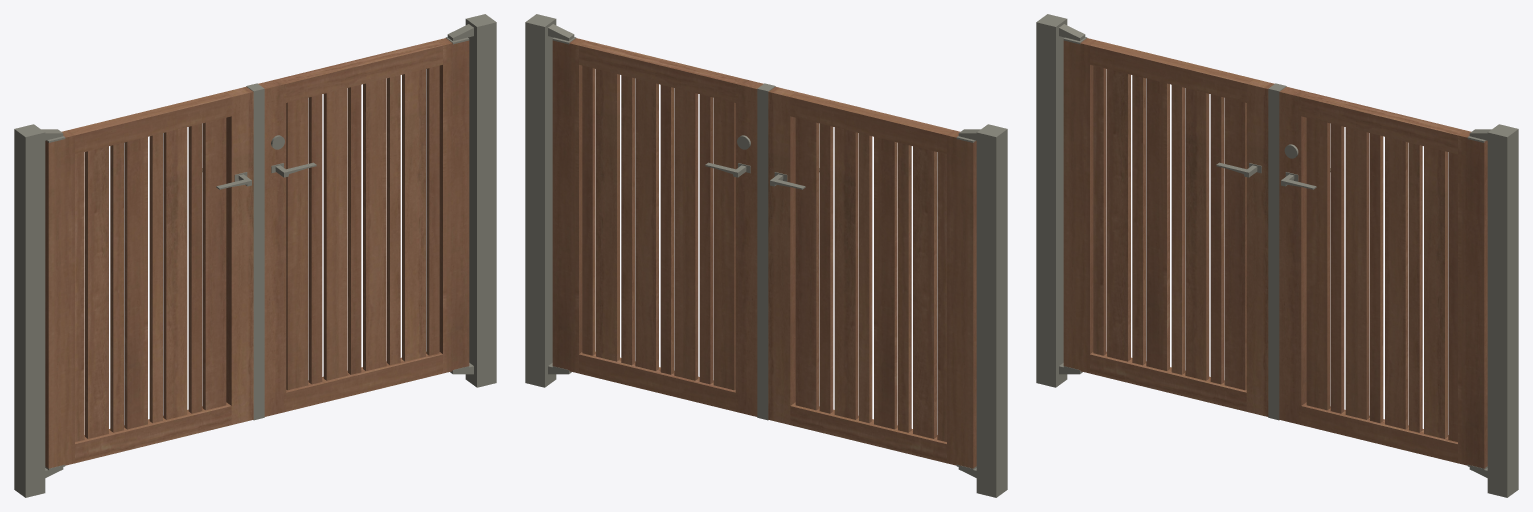
The model's file is awmonpi2-40-80tate_h1200-w800-800_jara.fbx.
3 renders of one model, left to right at view 1: azimuth 30°, elevation 25°; view 2: azimuth 150°, elevation 25°; view 3: azimuth 330°, elevation 25°, orthographic.
Parts seen in each view (by area): view 1: awmonpi2-40-80tate_h1200-w800-800_chacoalgray.003; view 2: awmonpi2-40-80tate_h1200-w800-800_chacoalgray.003; view 3: awmonpi2-40-80tate_h1200-w800-800_chacoalgray.003.
Part boxes in pixels (<box>): awmonpi2-40-80tate_h1200-w800-800_chacoalgray.003: <box>14,14,496,497</box>; awmonpi2-40-80tate_h1200-w800-800_chacoalgray.003: <box>525,14,1007,497</box>; awmonpi2-40-80tate_h1200-w800-800_chacoalgray.003: <box>1036,14,1518,497</box>.
Bounding box in the file's own units: 180 × 132 × 16.7.
2 materials, 2 textured.
